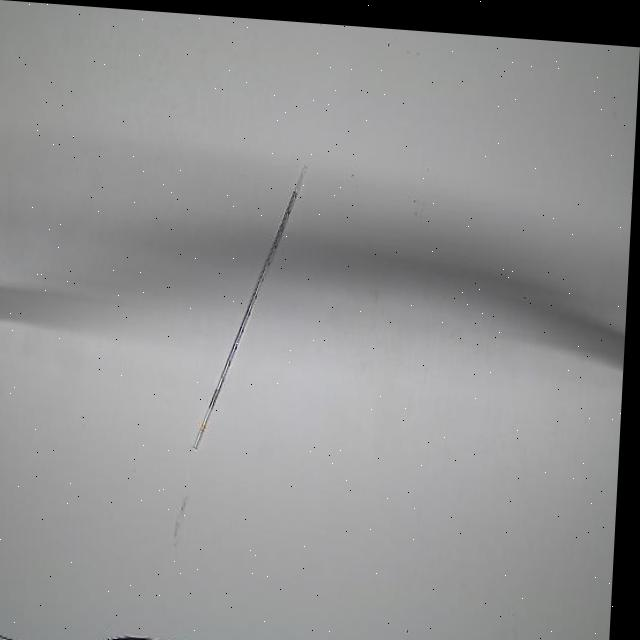Serelogical Pipet 10 mL: (196, 148, 319, 458)
